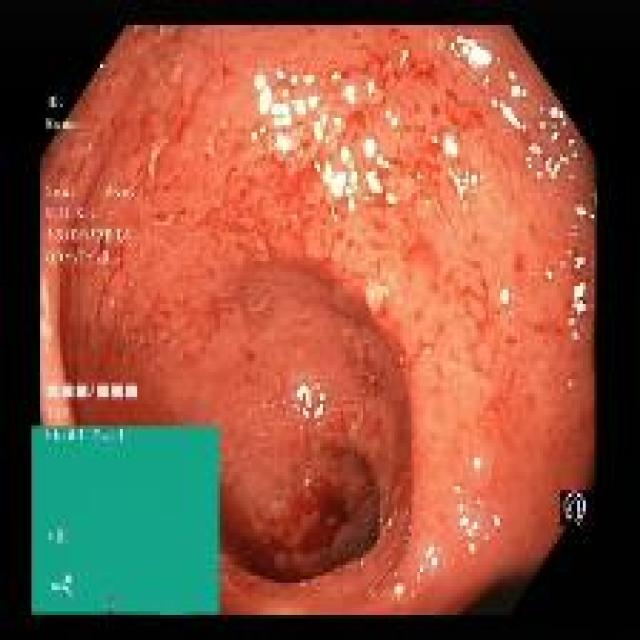ulcerative-colitis: (42, 27, 595, 615)
